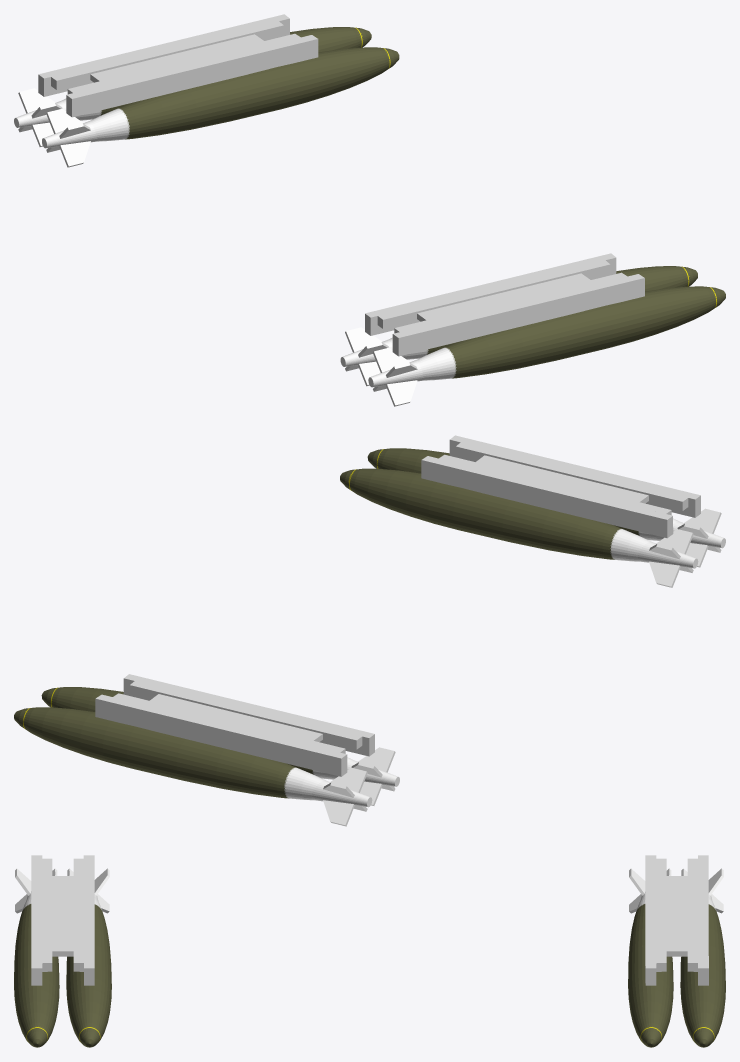
The model's file is gbu32fa18e34.glb.
The picture shows the model from 3 angles, top to bottom: view 1: azimuth 30°, elevation 25°; view 2: azimuth 150°, elevation 25°; view 3: azimuth 270°, elevation 25°; orthographic projection. The views are drawn at different scales.
Visible parts, largest first — view 1: 球.003, 球.004, 立方体.009, 立方体.010, 球.001, 球.002; view 2: 球.002, 球.001, 立方体.009, 立方体.010, 球.003, 球.004; view 3: 立方体.010, 立方体.009, 球.003, 球.004, 球.002, 球.001.
Boxes of the visible parts, x1,y1,x2,y2 form: 球.003: (368,286,725,406); 球.004: (42,47,399,167); 立方体.009: (38,14,318,117); 立方体.010: (365,253,644,356); 球.001: (14,27,371,146); 球.002: (340,266,697,386); 球.002: (340,468,698,587); 球.001: (14,707,372,826); 立方体.009: (95,674,374,776); 立方体.010: (421,435,700,538); 球.003: (367,448,725,567); 球.004: (41,687,399,805); 立方体.010: (31,855,94,985); 立方体.009: (645,855,708,985); 球.003: (14,868,59,1047); 球.004: (628,868,673,1047); 球.002: (66,868,111,1047); 球.001: (680,868,725,1047).
Size of the model in its own units: 3.41 by 0.5614 by 6.28.
Materials: 2 (1 with a texture image).
